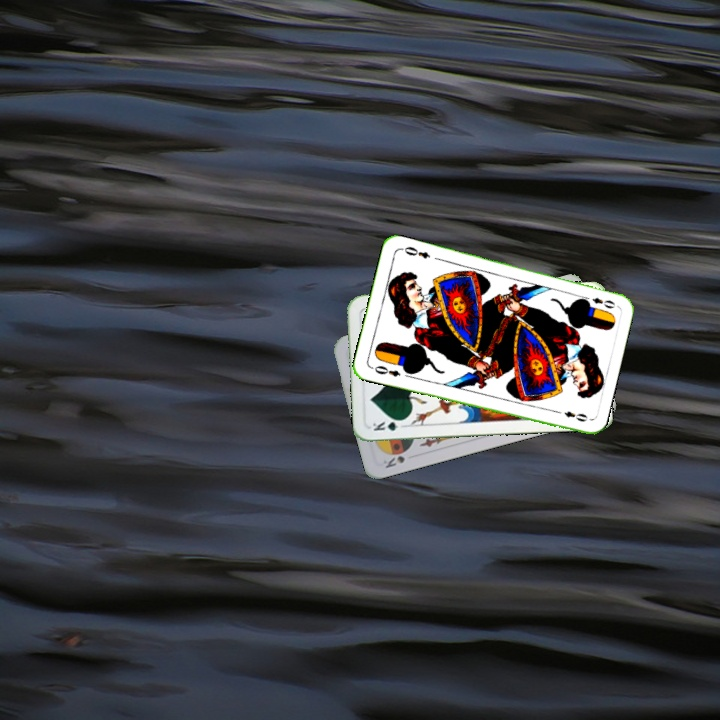EO: (579, 292, 617, 311), (367, 361, 403, 379)
GK: (369, 416, 408, 433)
SK: (379, 452, 407, 471)
